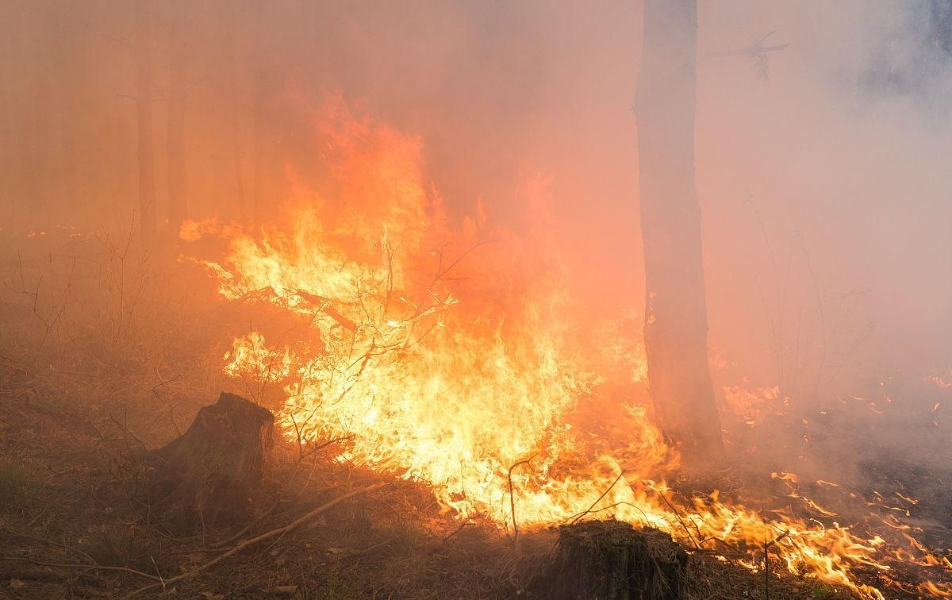山火: (177, 87, 951, 599)
烟雾: (0, 0, 952, 600)
